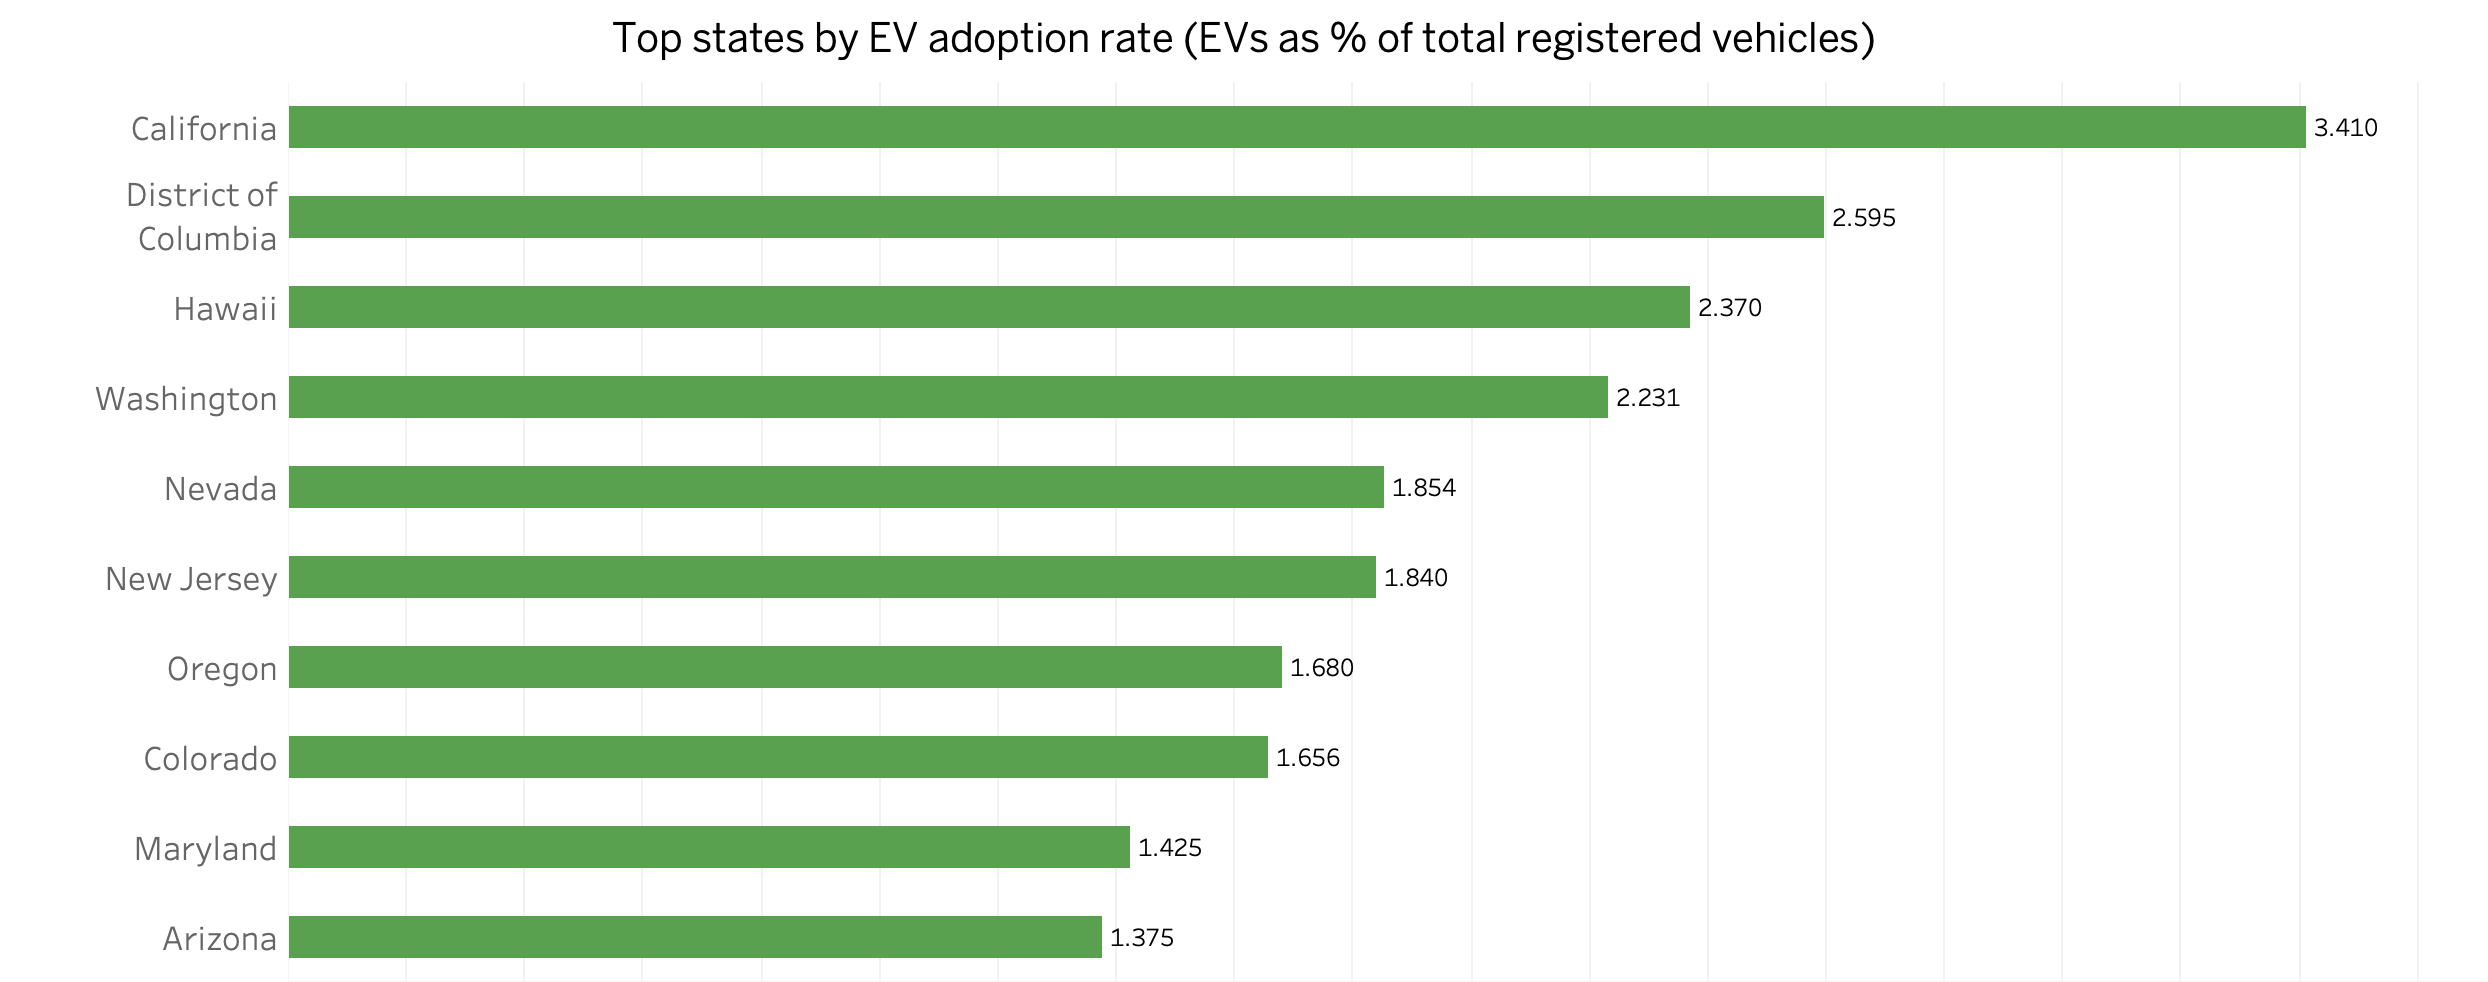

The page's visual inventory and layout, read from the dashboard file:
{"tool":"tableau","page":{"name":"Dashboard 2","canvas":[1000,1000],"units":"permille","ordinal":1},"visuals":[{"type":"worksheet","title":"Sheet 3","mark":"Automatic","rows":["State"],"box":[5.5,8.1,988.9,983.9]}]}

Visuals, with their boxes on the dashboard's canvas, which has no fixed pixel size, in thousandths of its width and height (x1, y1, x2, y2). These are canvas units, not pixel positions in the 2488x982 screenshot, which may show the page scaled, cropped or inside an application window:
"Sheet 3" worksheet: 6/8/994/992
